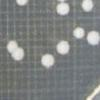white: (84, 28, 100, 48), (55, 39, 71, 57), (55, 2, 71, 18), (5, 39, 20, 55), (41, 52, 55, 69), (11, 46, 25, 62), (72, 25, 86, 40), (80, 0, 95, 13), (15, 0, 30, 7), (55, 0, 68, 4)
